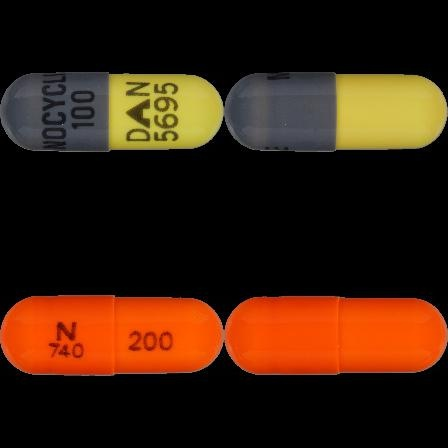68151-2299: (0, 0, 224, 224)
